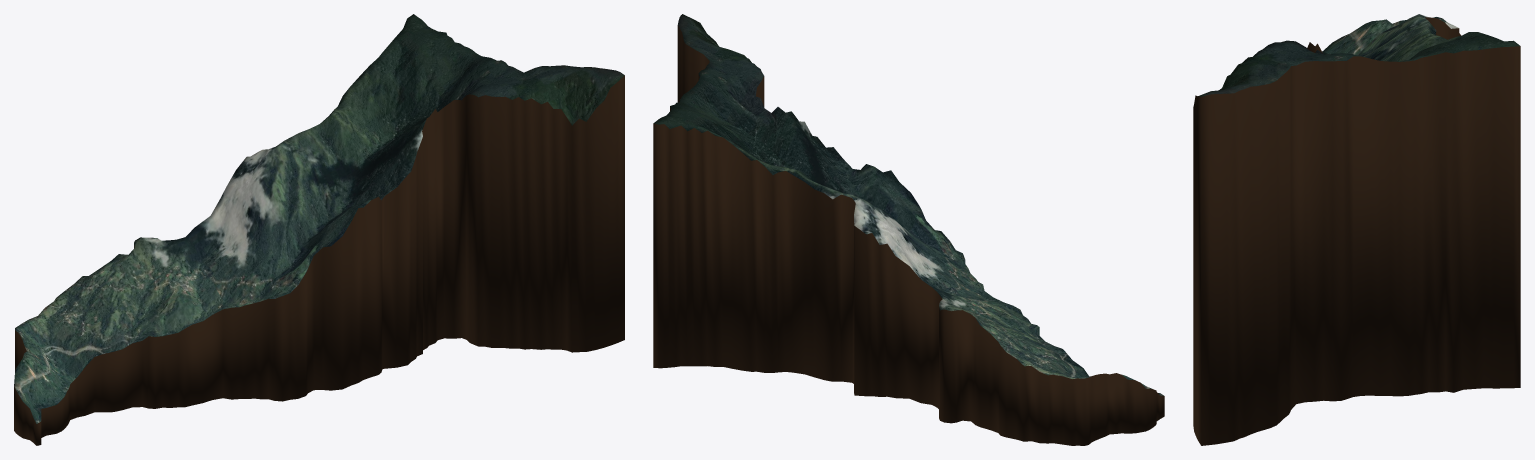
File: Uriquita.fbx
3 renders of one model, left to right at view 1: azimuth 30°, elevation 25°; view 2: azimuth 150°, elevation 25°; view 3: azimuth 270°, elevation 25°, orthographic. The views are drawn at different scales.
Visible parts, largest first — view 1: Uriquita; view 2: Uriquita; view 3: Uriquita.
Part boxes in pixels (x1=…): Uriquita: x1=14, y1=14, x2=624, y2=445; Uriquita: x1=653, y1=14, x2=1164, y2=445; Uriquita: x1=1193, y1=14, x2=1520, y2=445.
Bounding box in the file's own units: 678774 × 312024 × 264076.
Materials: 2 (1 with a texture image).
